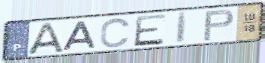A: (26, 21, 65, 56), (61, 20, 99, 52)
C: (99, 17, 133, 49)
E: (132, 13, 168, 48)
I: (175, 10, 190, 45)
P: (201, 8, 236, 43)
